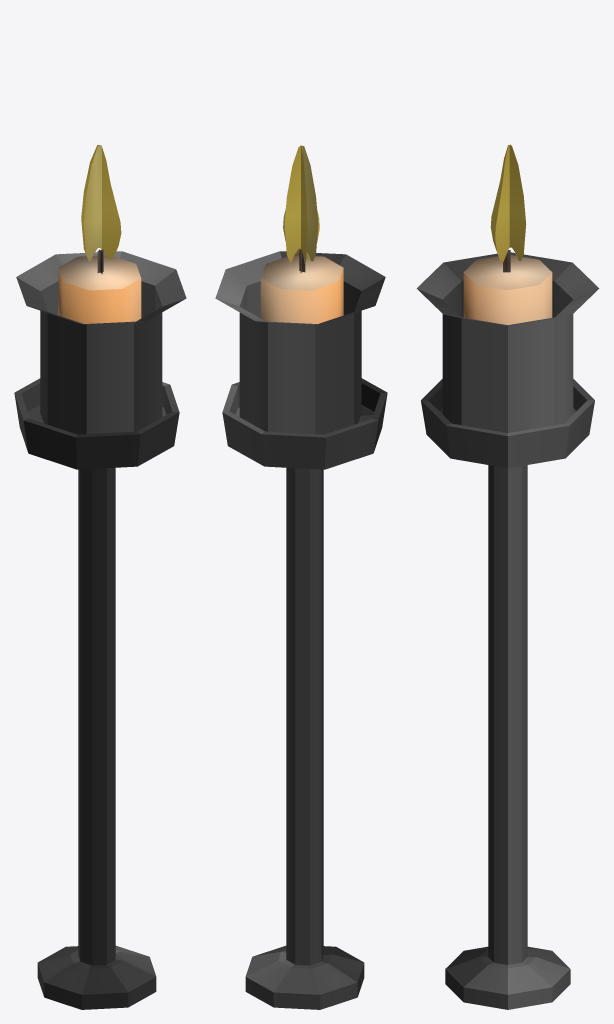
Rendered from candle_338x15.obj.
3 renders of one model, left to right at view 1: azimuth 30°, elevation 25°; view 2: azimuth 150°, elevation 25°; view 3: azimuth 270°, elevation 25°, orthographic.
Visible parts, largest first — view 1: Candle_338x15; view 2: Candle_338x15; view 3: Candle_338x15.
Part boxes in pixels (<box>): Candle_338x15: <box>14,145,186,1009</box>; Candle_338x15: <box>215,145,387,1009</box>; Candle_338x15: <box>416,144,599,1009</box>.
Bounding box in the file's own units: 0.3876 × 2.3 × 0.401.
